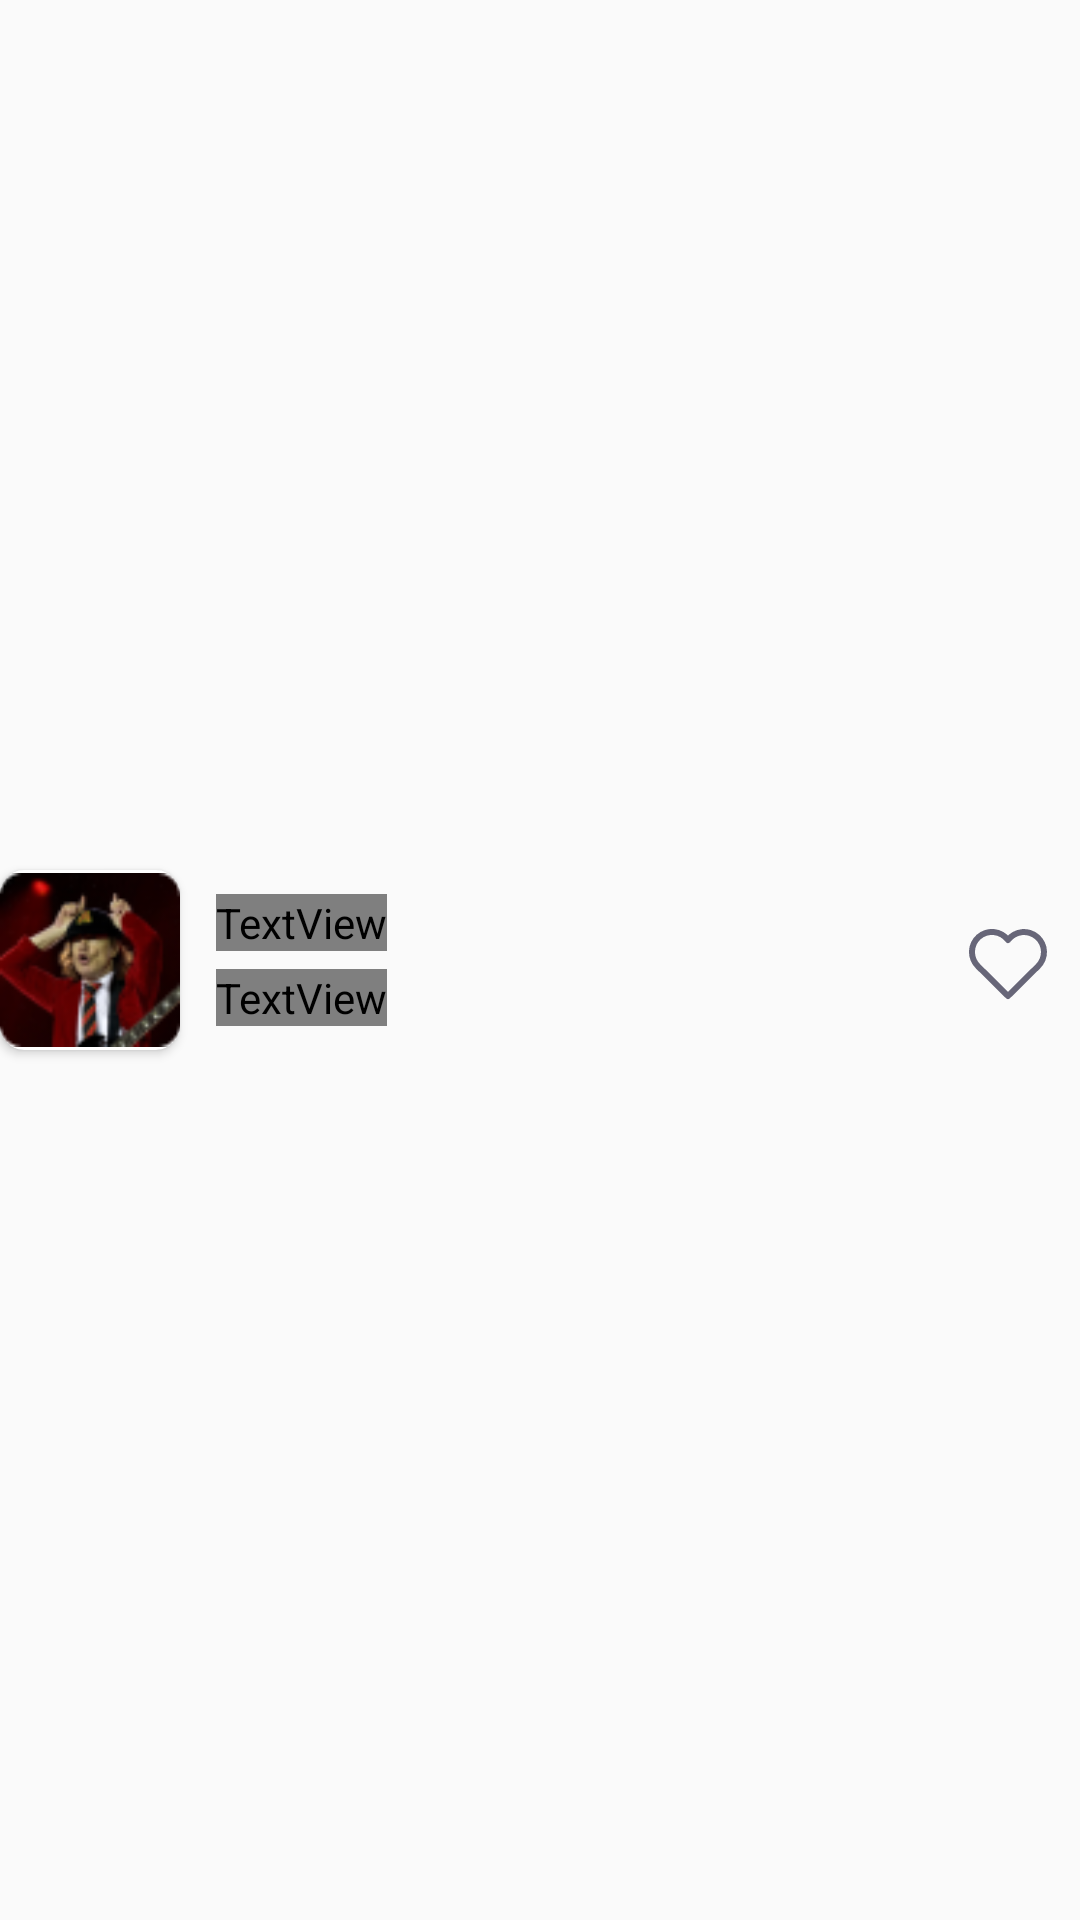

Icon click points for this 1080x1920 phone screenshot, format (x=x, y=y):
favorite: (x=1008, y=964)
track: (x=90, y=961)
